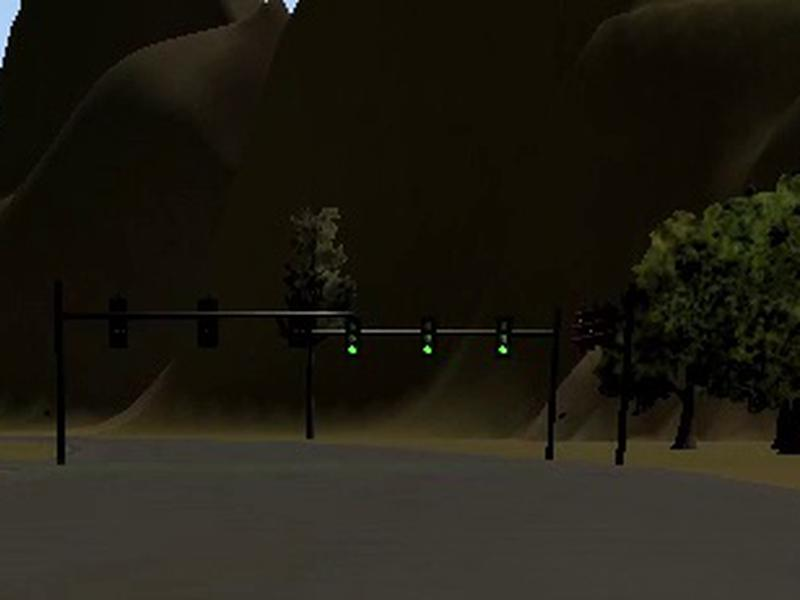Green: (421, 319, 436, 357), (496, 319, 511, 357), (345, 319, 360, 354)
